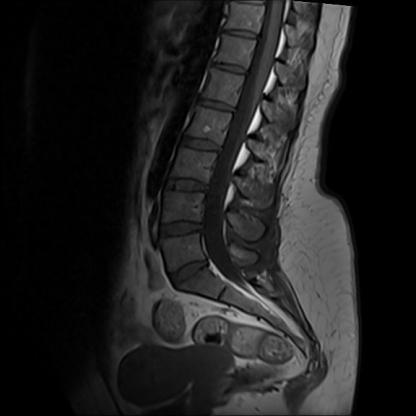Degenerative Disc Diseaserotation: (155, 218, 210, 239)
